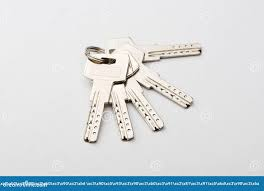key: (92, 30, 218, 70), (81, 52, 129, 148)
